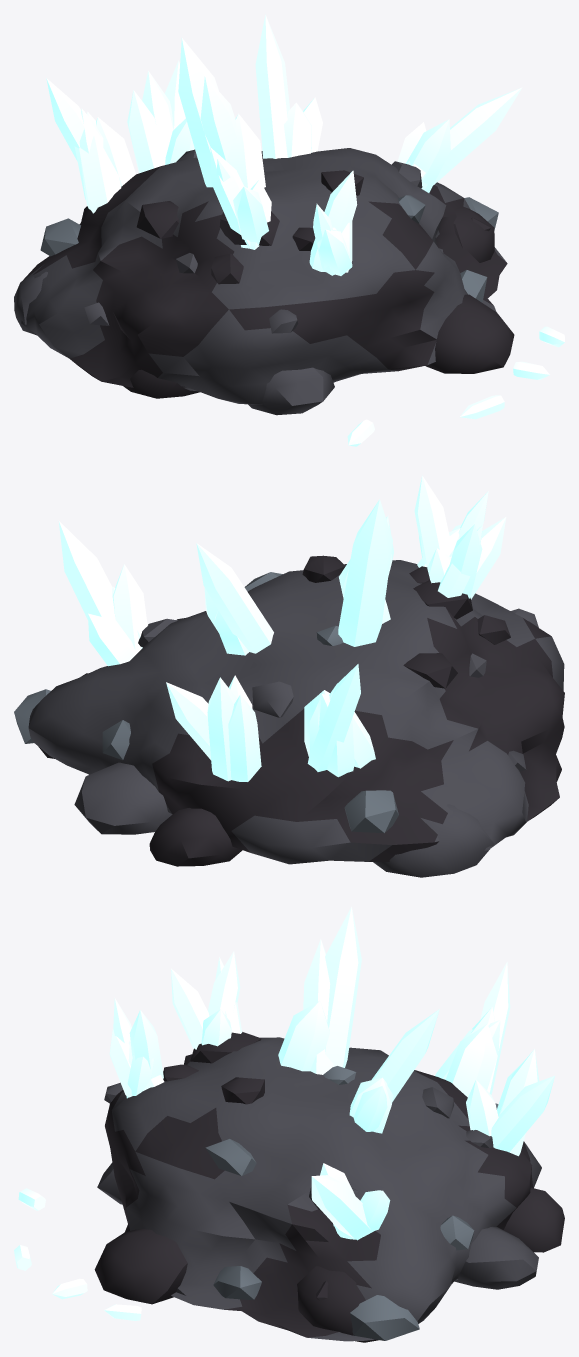
File: deco_ore_pile_crystal.fbx
The picture shows the model from 3 angles, top to bottom: view 1: azimuth 30°, elevation 25°; view 2: azimuth 150°, elevation 25°; view 3: azimuth 270°, elevation 25°; orthographic projection. The views are drawn at different scales.
Visible parts, largest first — view 1: OrePile_Crystal_Heap, OrePile_Crystal_Crystals; view 2: OrePile_Crystal_Heap, OrePile_Crystal_Crystals; view 3: OrePile_Crystal_Heap, OrePile_Crystal_Crystals.
Part boxes in pixels (x1,y1,x2,y2): OrePile_Crystal_Heap: [14, 148, 514, 415]; OrePile_Crystal_Crystals: [46, 14, 564, 446]; OrePile_Crystal_Heap: [14, 555, 564, 877]; OrePile_Crystal_Crystals: [58, 475, 506, 781]; OrePile_Crystal_Heap: [94, 1032, 564, 1342]; OrePile_Crystal_Crystals: [14, 906, 554, 1320].
Size of the model in its own units: 242 by 147 by 250.
